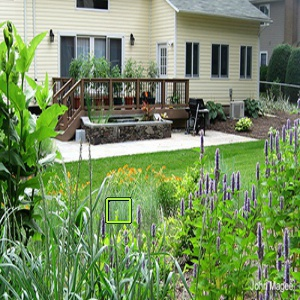square: (104, 195, 133, 225)
